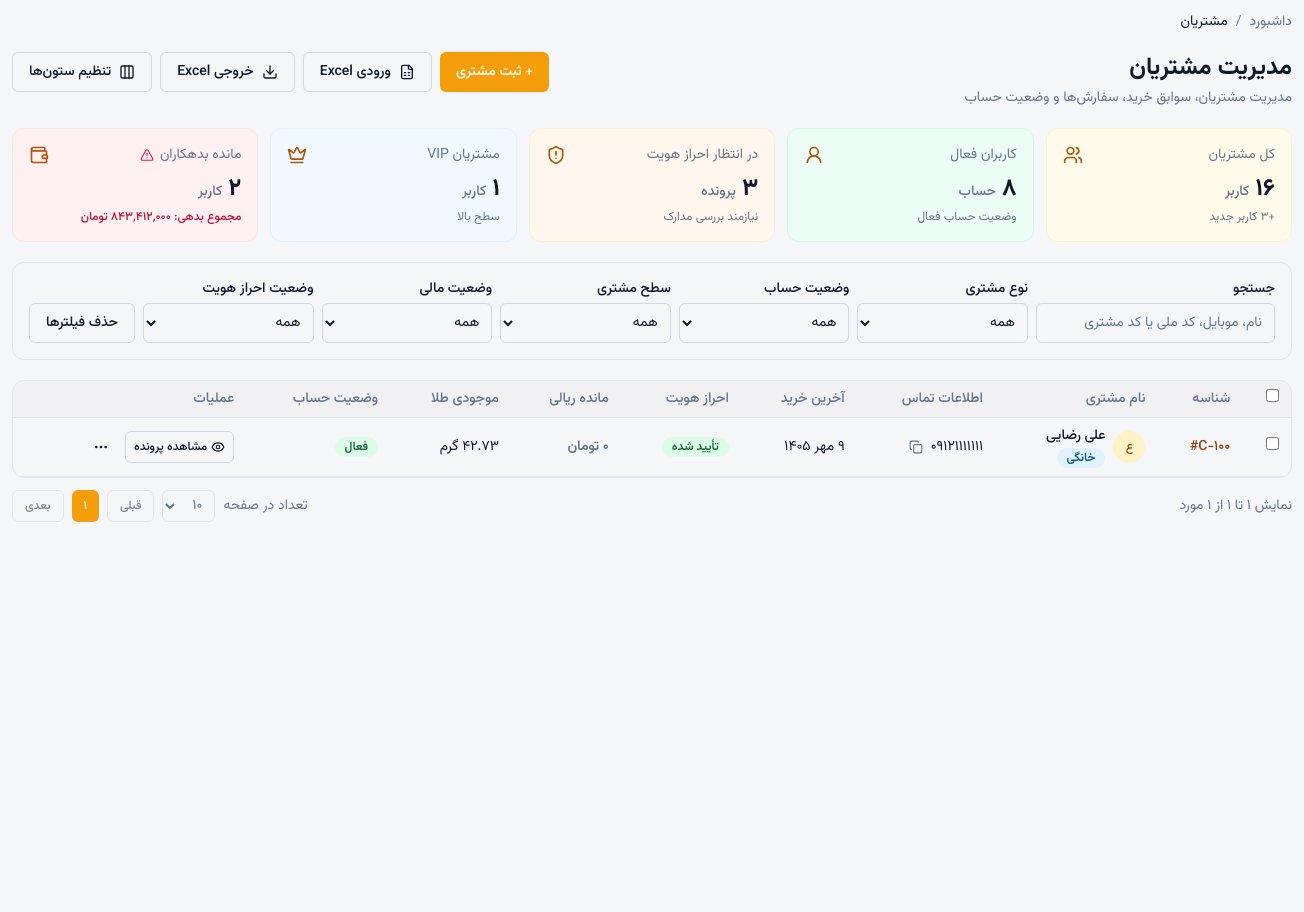
Test: customer list › shows the bulk action bar after selecting a row
Expected: the text "علی رضایی" is shown, [1046,426,1105,446]
Click the checkbox named "انتخاب علی رضایی": (1272, 444) [1266,437,1279,450]
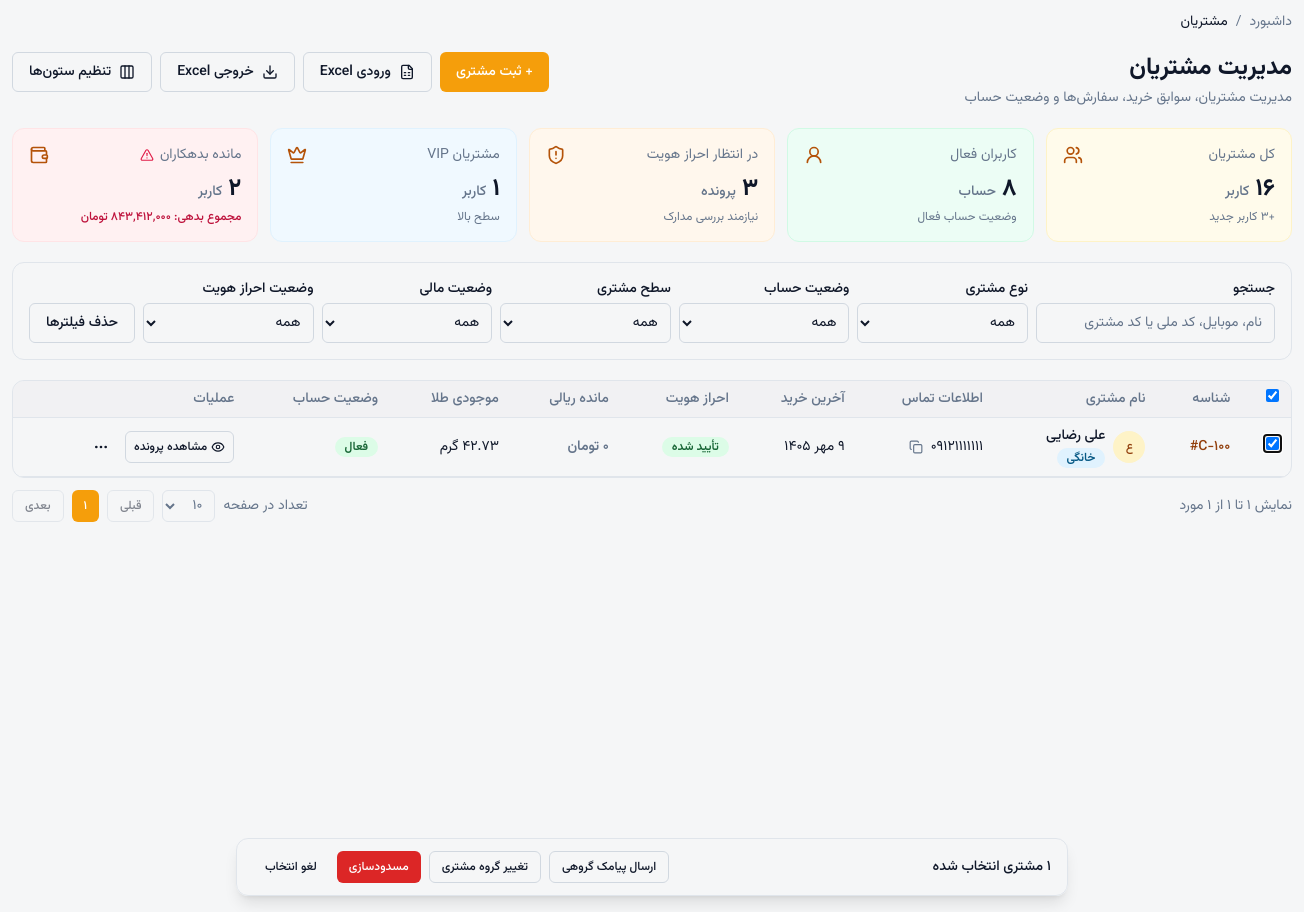
Result: the text "۱ مشتری انتخاب شده" is shown at [932,857,1051,877]
Result: the button "ارسال پیامک گروهی" is shown at [549,851,669,883]
Result: the button "تغییر گروه مشتری" is shown at [429,851,541,883]
